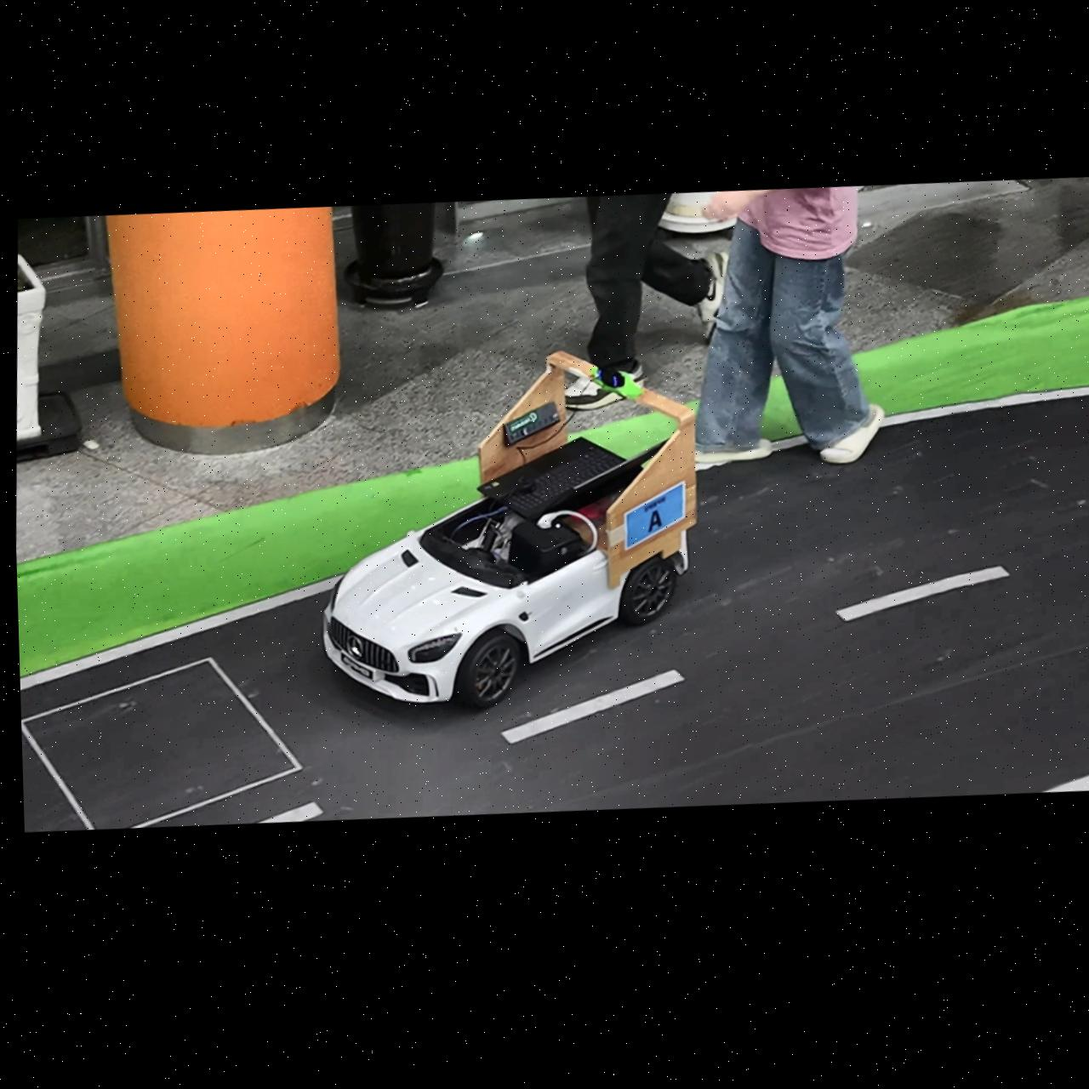broken_line: (500, 669, 685, 744), (834, 565, 1010, 621), (256, 801, 323, 822)
